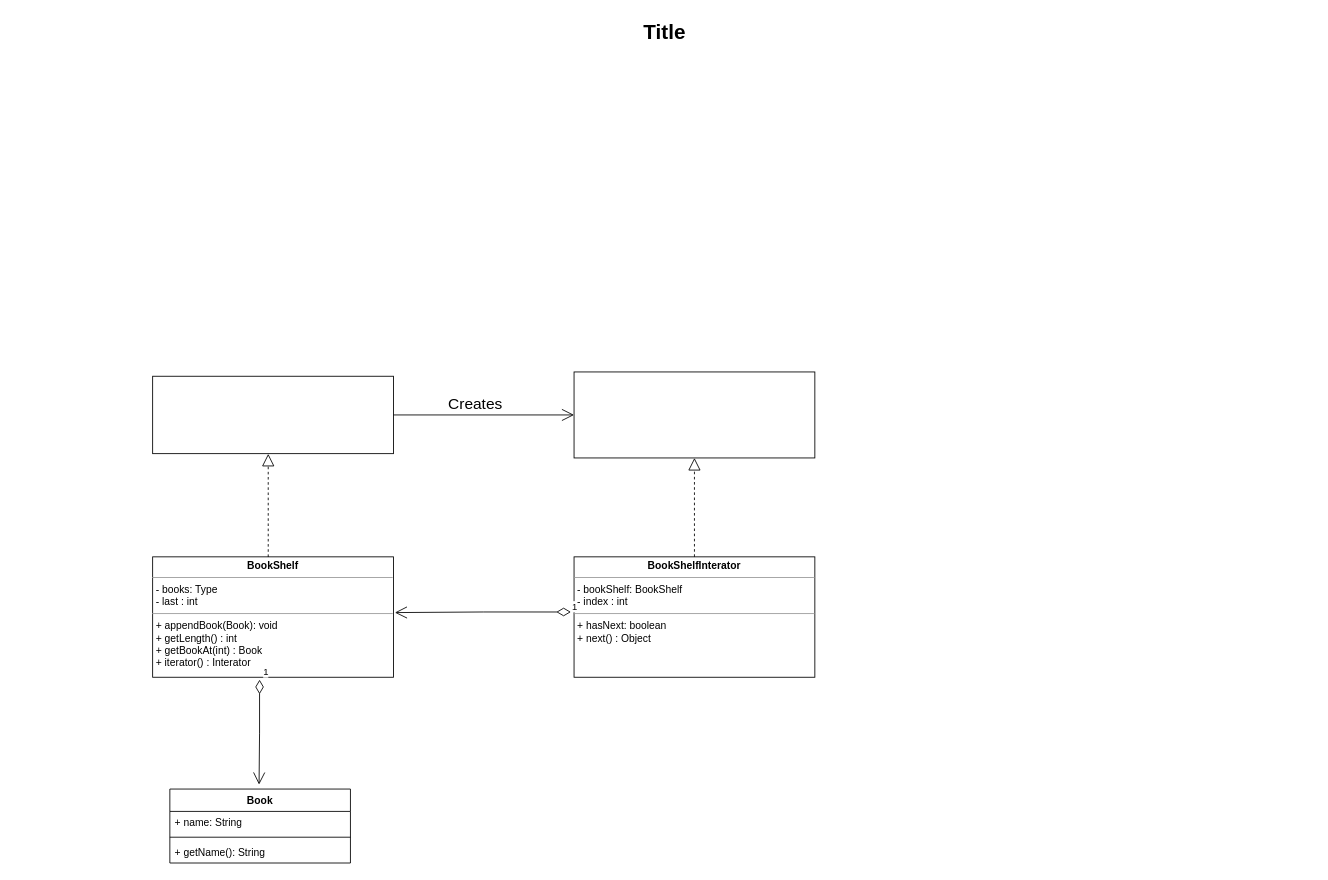
Some shapes in this 1328 by 880 pixel diagram are drawn without their labels. The shapes that lost their labels are listed below. From the top down, each one's centre as x and y in pixels, then its label:
the point at 272,414: <<Interface>> Aggregate +iterator: void
the point at 694,414: <<Interface>> Interator +hasNext: boolean +next : Object
